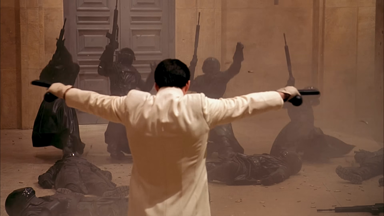firearm: (97, 1, 120, 69), (47, 15, 69, 66), (314, 198, 383, 214), (278, 31, 296, 86), (188, 11, 203, 77), (289, 87, 323, 109), (27, 76, 52, 89)
